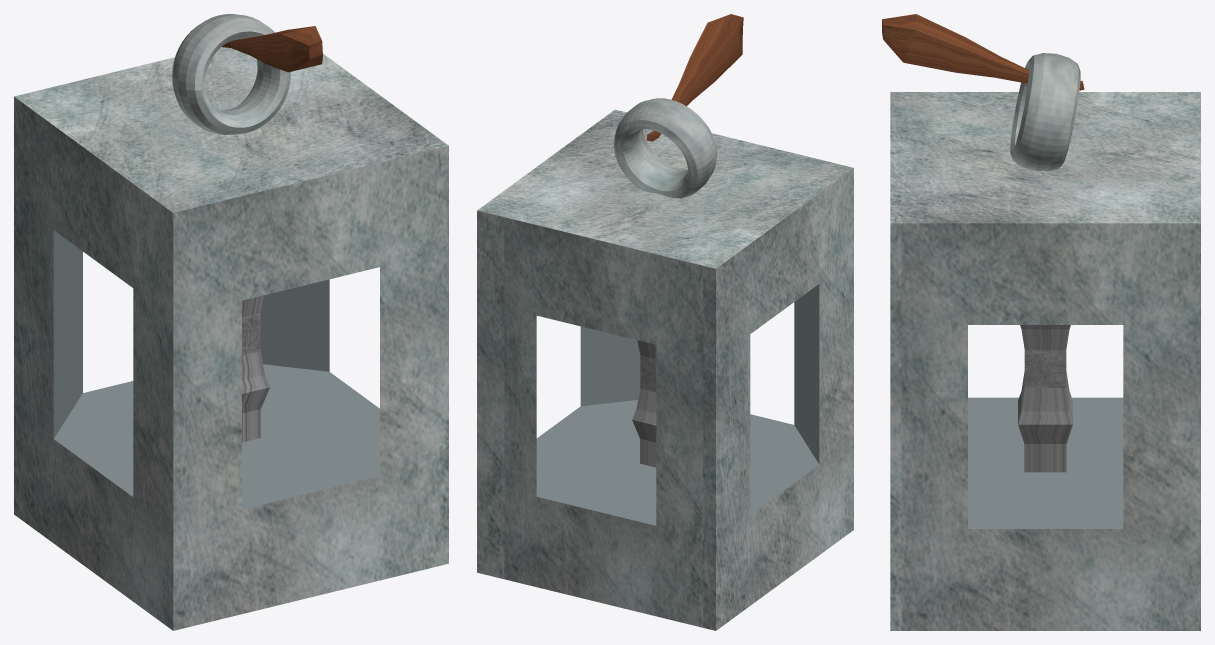
The model's file is Oillamp.fbx.
3 views of the same model, side by side, from view 1: azimuth 30°, elevation 25°; view 2: azimuth 150°, elevation 25°; view 3: azimuth 270°, elevation 25° (orthographic). The views are drawn at different scales.
Visible parts, largest first — view 1: Oil lamp; view 2: Oil lamp; view 3: Oil lamp.
Boxes of the visible parts, <box> form: Oil lamp: <box>14,14,448,630</box>; Oil lamp: <box>477,14,853,630</box>; Oil lamp: <box>882,14,1200,630</box>.
Bounding box in the file's own units: 200 × 386 × 205.
